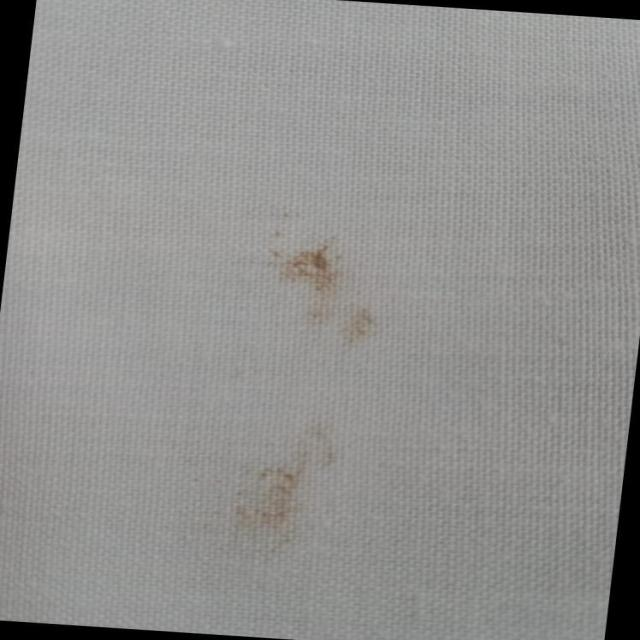stain: (234, 202, 399, 355), (216, 404, 356, 566)
